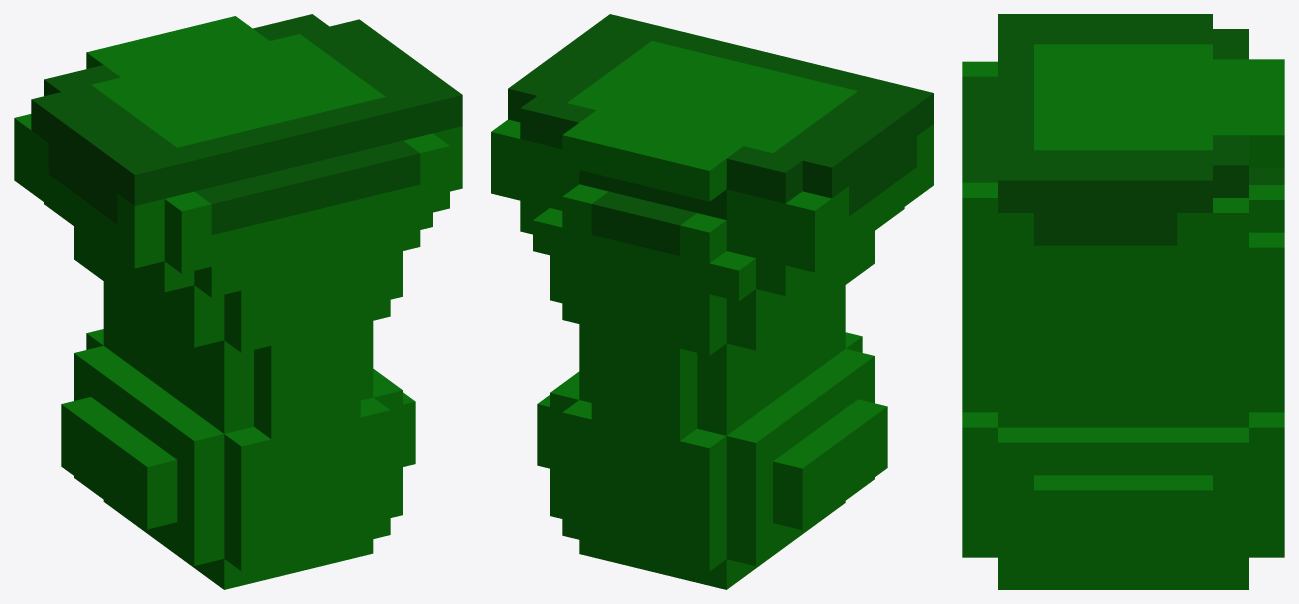
The model's file is Body.fbx.
3 views of the same model, side by side, from view 1: azimuth 30°, elevation 25°; view 2: azimuth 150°, elevation 25°; view 3: azimuth 270°, elevation 25° (orthographic). The views are drawn at different scales.
Visible parts, largest first — view 1: Куб.440; view 2: Куб.440; view 3: Куб.440.
Part boxes in pixels (box(x1,y1,x2,y2)): Куб.440: box(14, 14, 462, 589); Куб.440: box(491, 14, 933, 589); Куб.440: box(962, 14, 1284, 589).
Size of the model in its own units: 1100 by 1400 by 900.
